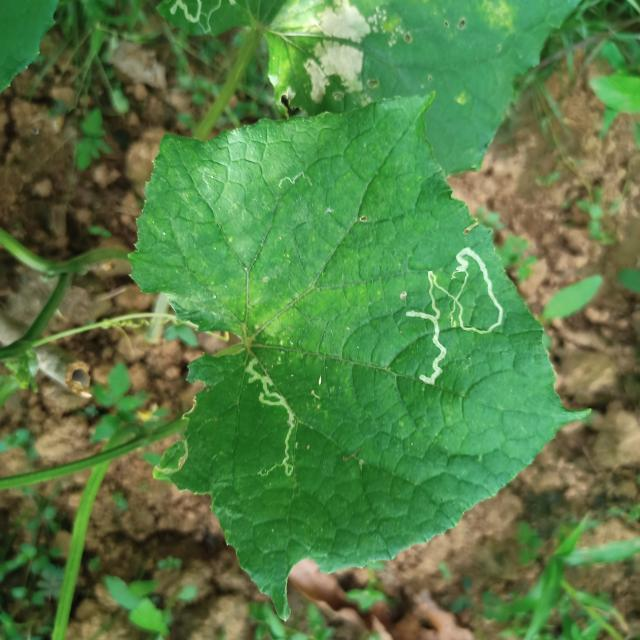disease_cucumber: (304, 0, 383, 110)
